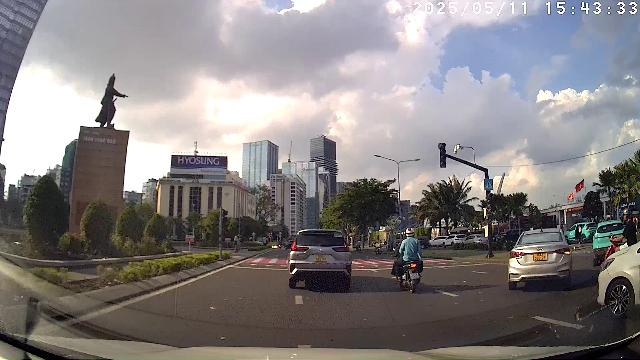423a-duong-nguoi-di-bo-sang-ngang-1: (484, 179, 493, 190)
